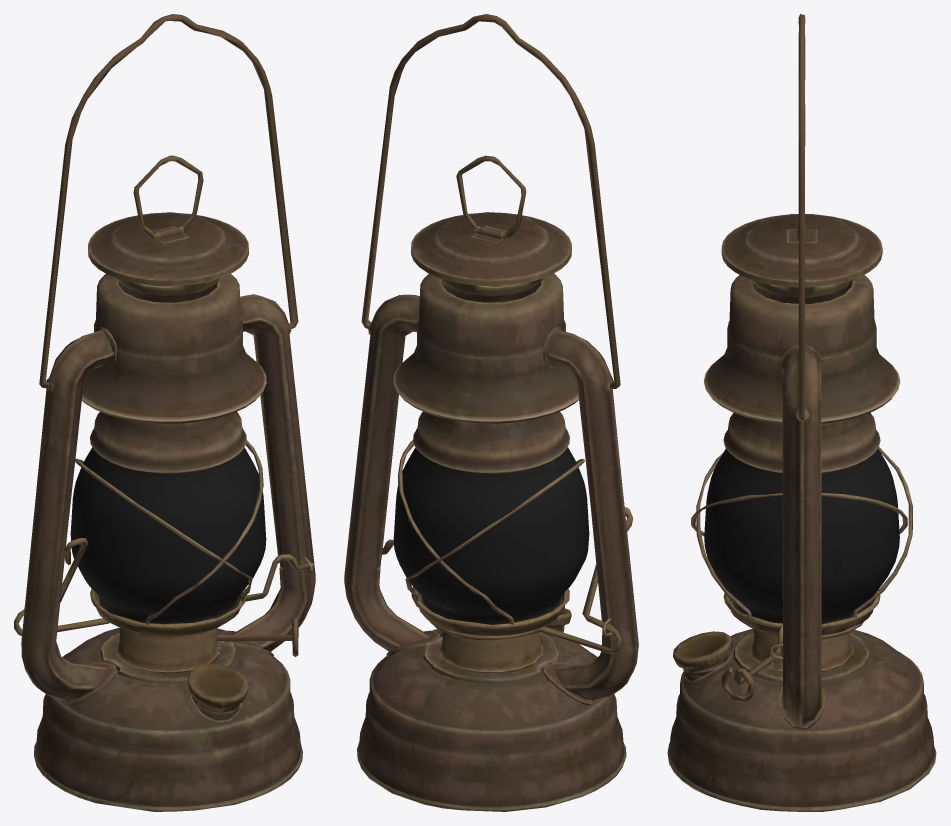
File: lantern.glb
The picture shows the model from 3 angles, left to right: view 1: azimuth 30°, elevation 25°; view 2: azimuth 150°, elevation 25°; view 3: azimuth 270°, elevation 25°; orthographic projection.
Parts seen in each view (by area): view 1: Lantern_01, Lantern_01_glass; view 2: Lantern_01, Lantern_01_glass; view 3: Lantern_01, Lantern_01_glass.
Part boxes in pixels (x1,y1,x2,y2): Lantern_01: [14, 14, 315, 811]; Lantern_01_glass: [70, 447, 266, 623]; Lantern_01: [344, 14, 638, 811]; Lantern_01_glass: [393, 447, 589, 624]; Lantern_01: [667, 14, 936, 811]; Lantern_01_glass: [704, 448, 899, 624].
Size of the model in its own units: 0.1219 by 0.2939 by 0.097.
2 materials, 2 textured.
